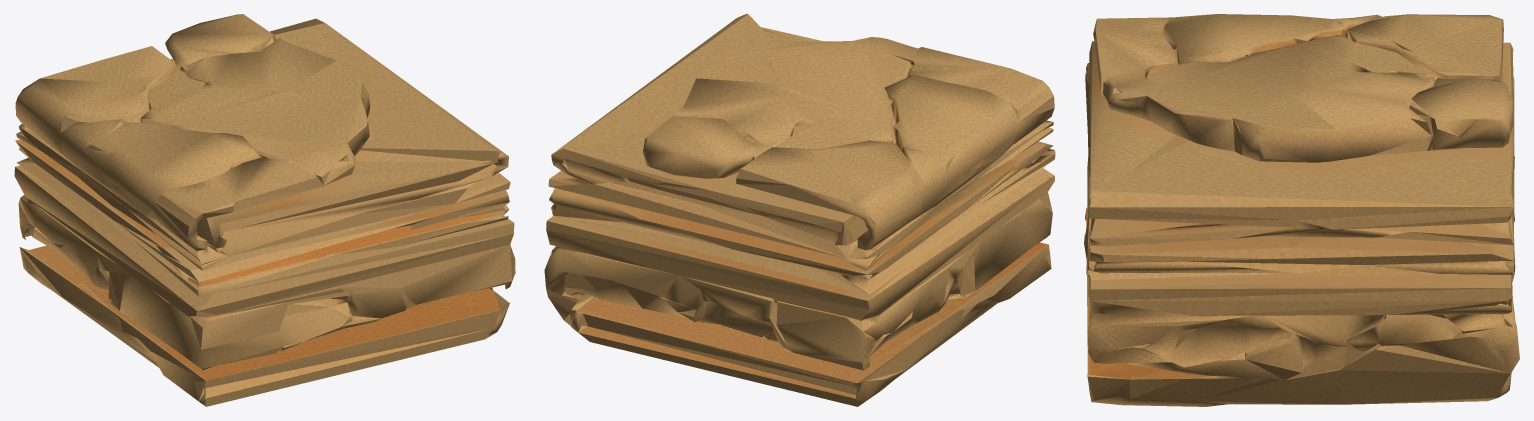
Rendered from Mica.fbx.
The picture shows the model from 3 angles, left to right: view 1: azimuth 30°, elevation 25°; view 2: azimuth 150°, elevation 25°; view 3: azimuth 270°, elevation 25°; orthographic projection. The views are drawn at different scales.
Parts seen in each view (by area): view 1: Mesh_0; view 2: Mesh_0; view 3: Mesh_0.
Part boxes in pixels (x1,y1,x2,y2): Mesh_0: [14, 14, 515, 406]; Mesh_0: [544, 14, 1055, 406]; Mesh_0: [1084, 14, 1519, 406].
Size of the model in its own units: 190 by 118 by 188.
1 material, 1 textured.
